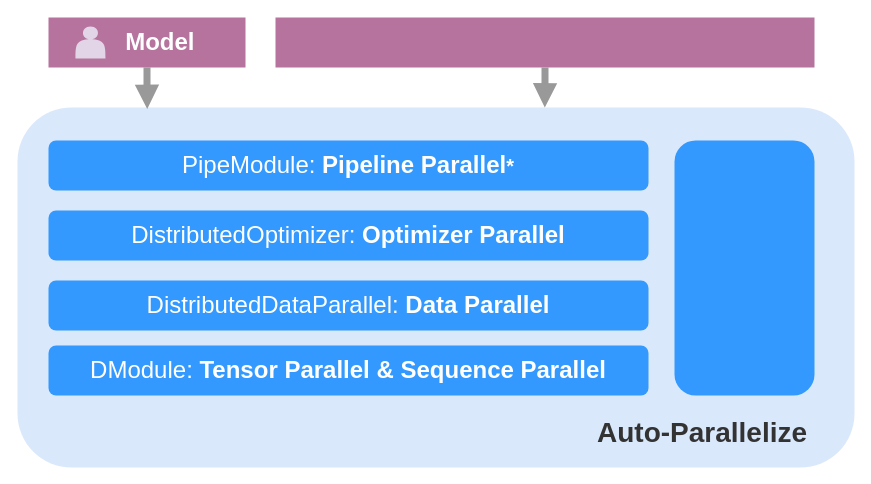
The diagram is 871 pixels wide and 484 high, and some of its shapes have lost their labels. Here are the shapes that lost their labels. From the top down, the centre of each, then its label:
the point at 544,42: Parallel Plan (Manual, Predefined, Auto*)
the point at 744,267: VeDeviceMesh: n-D Device Mesh
